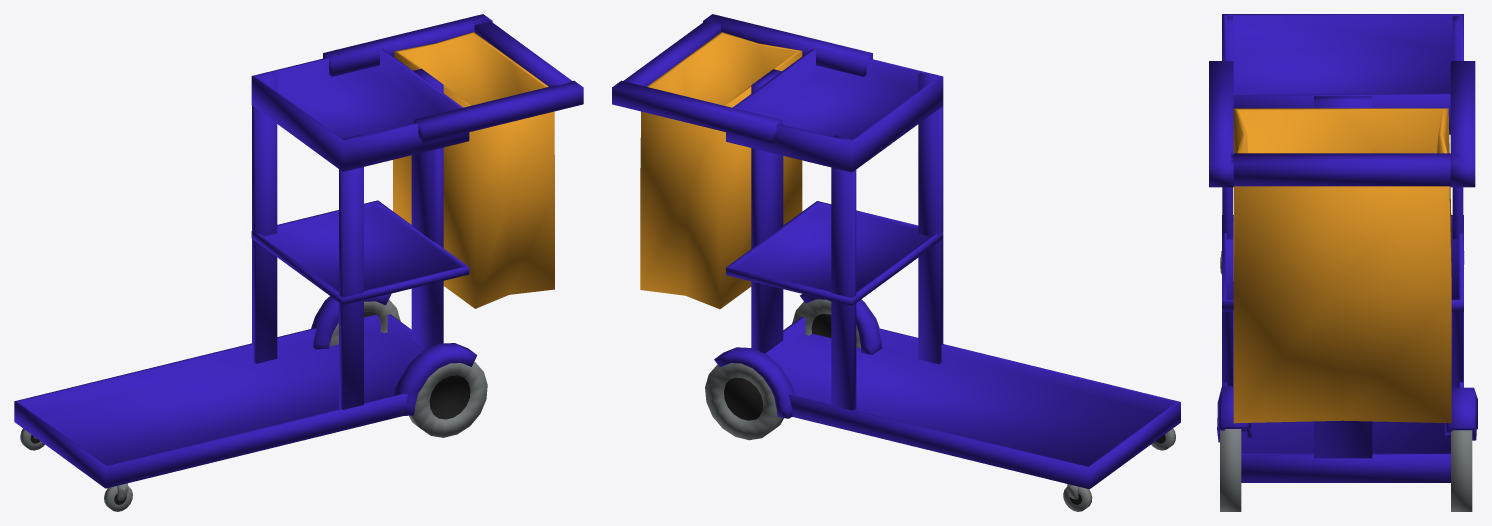
The model's file is Carrinho de zelador.fbx.
The picture shows the model from 3 angles, left to right: view 1: azimuth 30°, elevation 25°; view 2: azimuth 150°, elevation 25°; view 3: azimuth 270°, elevation 25°; orthographic projection. The views are drawn at different scales.
Visible parts, largest first — view 1: Carrinho do zelador; view 2: Carrinho do zelador; view 3: Carrinho do zelador.
Part boxes in pixels (x1=…): Carrinho do zelador: x1=14, y1=14, x2=583, y2=511; Carrinho do zelador: x1=612, y1=14, x2=1180, y2=511; Carrinho do zelador: x1=1209, y1=14, x2=1477, y2=511.
Size of the model in its own units: 153 by 98.76 by 56.62.
